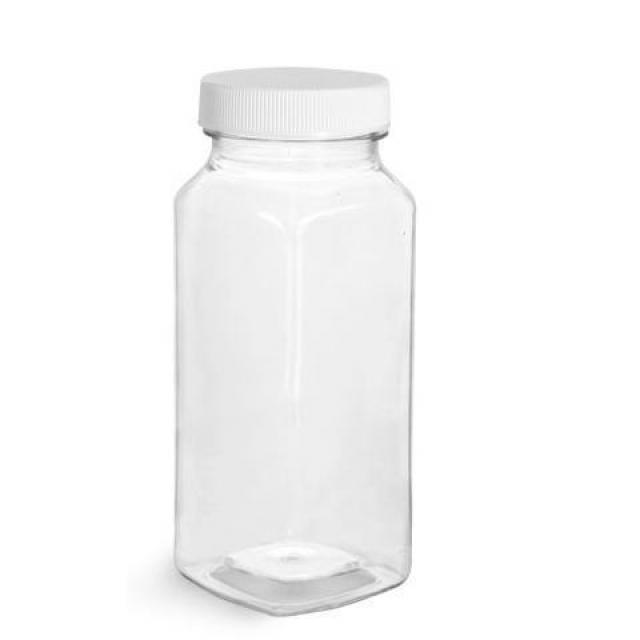plastic_bottle: (180, 68, 425, 604)
